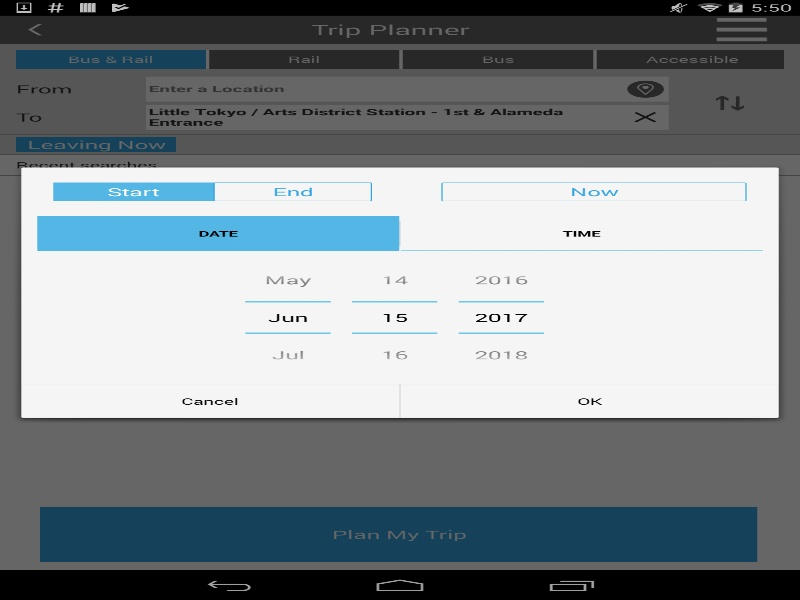Button: (21, 384, 399, 418), (400, 384, 778, 418), (458, 261, 544, 302), (458, 332, 544, 373), (245, 261, 330, 302), (245, 332, 330, 373), (352, 261, 437, 302), (352, 332, 437, 373)
Input: (458, 302, 544, 332), (245, 302, 330, 332), (352, 302, 437, 332)
